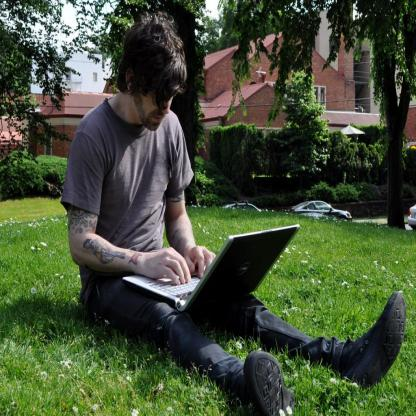board: (122, 222, 300, 315)
